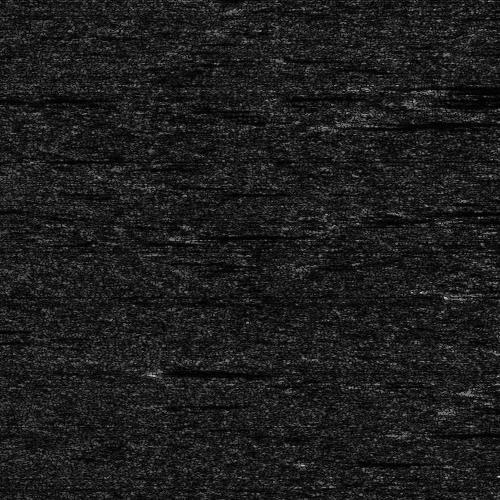object: (393, 403, 500, 416), (333, 206, 438, 213), (397, 94, 450, 105), (424, 290, 497, 297), (424, 84, 477, 93), (310, 121, 363, 130), (169, 230, 222, 239), (451, 387, 500, 394), (380, 429, 433, 434), (299, 458, 352, 463), (407, 216, 460, 221), (126, 401, 167, 404), (147, 368, 168, 373)
shadow: (336, 121, 500, 130), (0, 95, 93, 104), (424, 94, 500, 105), (196, 230, 287, 239), (386, 206, 500, 213), (157, 368, 279, 373), (455, 403, 500, 416), (326, 458, 426, 463), (407, 429, 500, 434), (450, 84, 500, 93), (434, 216, 500, 221), (460, 290, 500, 297), (147, 401, 236, 404), (478, 387, 500, 394)
